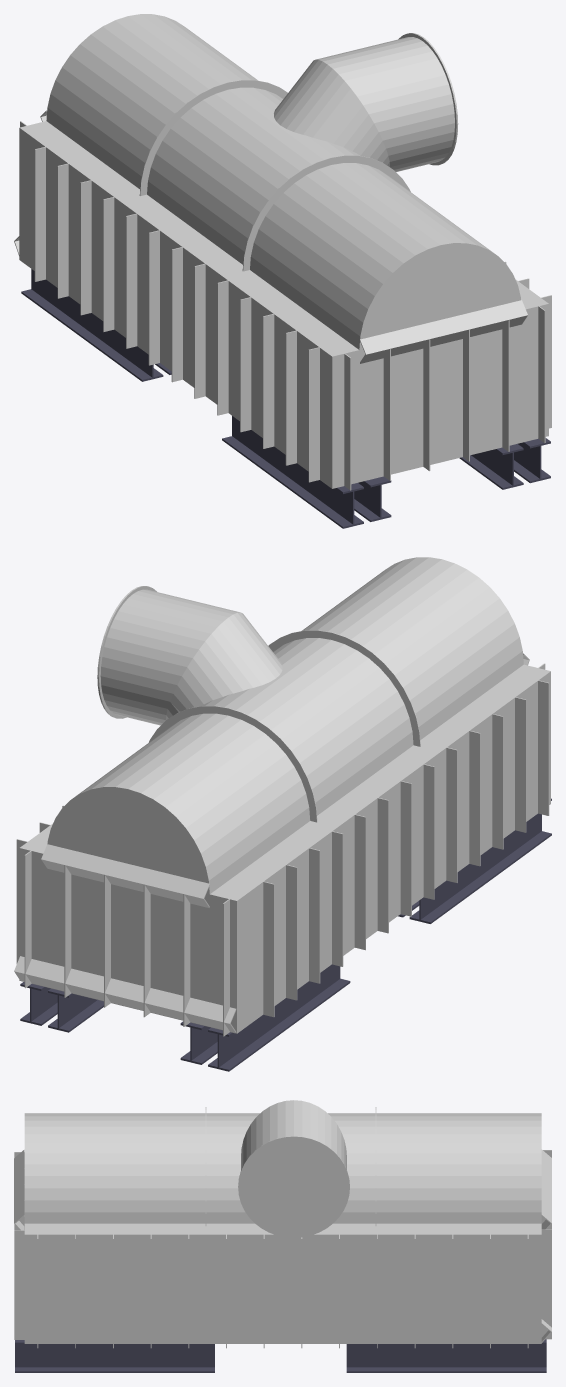
File: DIRECT CONTACT CONDENSER ONLY.fbx
3 views of the same model, one above another, from view 1: azimuth 30°, elevation 25°; view 2: azimuth 150°, elevation 25°; view 3: azimuth 270°, elevation 25° (orthographic). The views are drawn at different scales.
Parts seen in each view (by area): view 1: Group_140, Group_101, Group_144, Group_322, Group_146, Group_318, Group_142, Group_141, Group_112, Group_118, Group_117, Group_110 (+19 smaller); view 2: Group_140, Group_101, Group_144, Group_148, Group_318, Group_143, Group_322, Group_141, Group_142, Group_109, Group_111, Group_112 (+20 smaller); view 3: Group_101, Group_140, Group_145, Group_317, Group_321, Group_144, Group_147, Group_125, Group_143, Group_146.
Boxes of the visible parts, x1=… form: Group_140: x1=46, y1=14, x2=520, y2=417; Group_101: x1=19, y1=121, x2=548, y2=488; Group_144: x1=274, y1=37, x2=454, y2=171; Group_322: x1=222, y1=416, x2=363, y2=528; Group_146: x1=360, y1=300, x2=527, y2=363; Group_318: x1=21, y1=269, x2=163, y2=381; Group_142: x1=242, y1=155, x2=410, y2=271; Group_141: x1=139, y1=80, x2=287, y2=196; Group_112: x1=194, y1=263, x2=205, y2=398; Group_118: x1=57, y1=163, x2=68, y2=298; Group_117: x1=80, y1=180, x2=91, y2=315; Group_110: x1=240, y1=297, x2=251, y2=432; Group_140: x1=47, y1=557, x2=523, y2=961; Group_101: x1=19, y1=664, x2=550, y2=1033; Group_144: x1=100, y1=589, x2=282, y2=725; Group_148: x1=14, y1=956, x2=236, y2=1032; Group_318: x1=208, y1=964, x2=350, y2=1071; Group_143: x1=41, y1=844, x2=209, y2=907; Group_322: x1=409, y1=798, x2=551, y2=923; Group_141: x1=149, y1=706, x2=317, y2=822; Group_142: x1=268, y1=630, x2=420, y2=746; Group_109: x1=492, y1=714, x2=503, y2=849; Group_111: x1=446, y1=747, x2=457, y2=882; Group_112: x1=423, y1=764, x2=434, y2=899; Group_101: x1=24, y1=1223, x2=541, y2=1343; Group_140: x1=24, y1=1113, x2=541, y2=1223; Group_145: x1=238, y1=1136, x2=349, y2=1237; Group_317: x1=346, y1=1339, x2=546, y2=1372; Group_321: x1=15, y1=1340, x2=214, y2=1372; Group_144: x1=241, y1=1100, x2=346, y2=1169; Group_147: x1=14, y1=1230, x2=24, y2=1339; Group_125: x1=541, y1=1229, x2=551, y2=1339; Group_143: x1=541, y1=1149, x2=551, y2=1229; Group_146: x1=14, y1=1150, x2=24, y2=1230.
Bounding box in the file's own units: 152 × 168 × 323.
